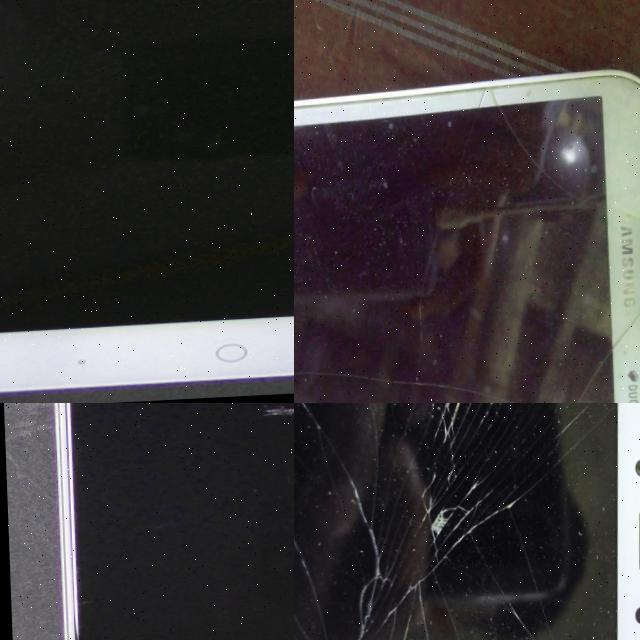scratch: (260, 403, 294, 462)
screen crack: (294, 403, 640, 640), (479, 93, 616, 226), (525, 275, 640, 403)
